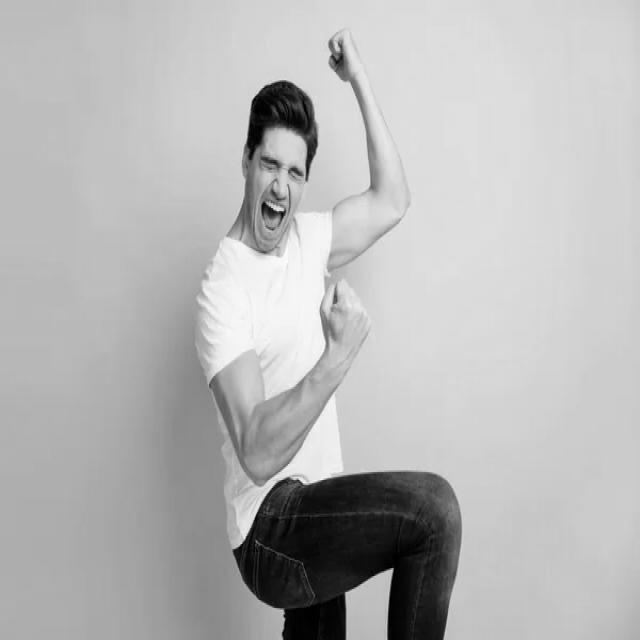real: (241, 80, 319, 254), (258, 146, 310, 182)
